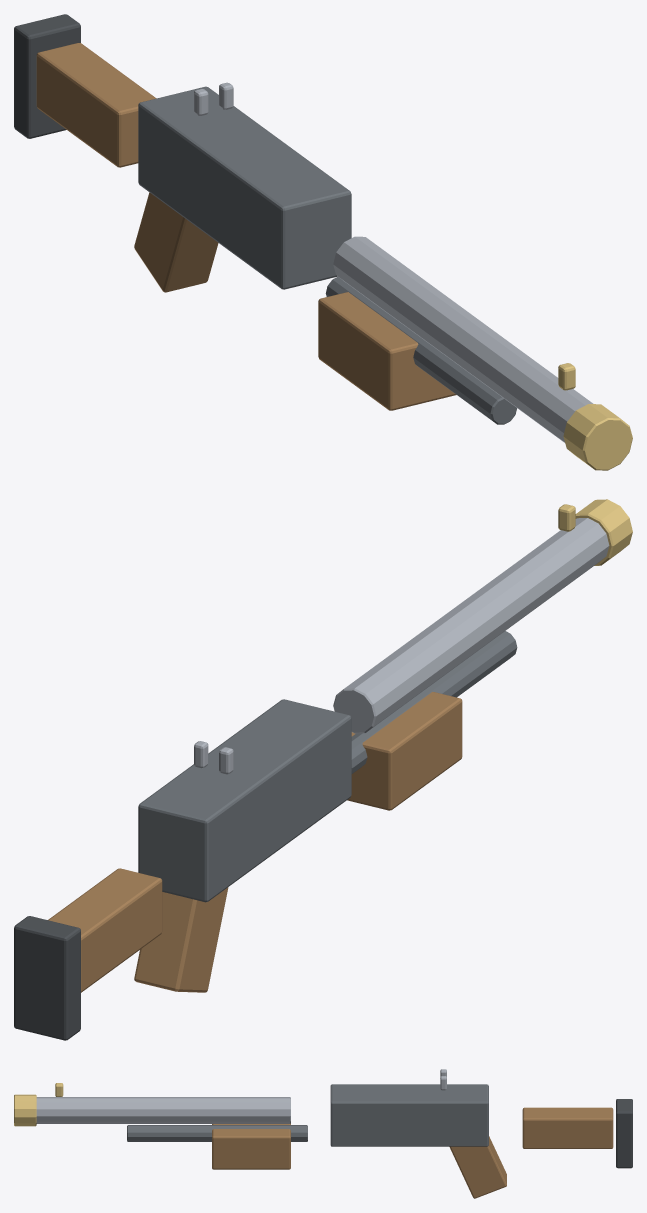
The model's file is slugshotgun.glb.
3 renders of one model, top to bottom at view 1: azimuth 30°, elevation 25°; view 2: azimuth 150°, elevation 25°; view 3: azimuth 270°, elevation 25°, orthographic. The views are drawn at different scales.
Parts seen in each view (by area): view 1: Receiver, Barrel, Stock, Pump, Grip, Butt, Tube, Muzzle; view 2: Receiver, Barrel, Pump, Stock, Butt, Grip, Tube, Muzzle; view 3: Receiver, Barrel, Stock, Pump, Grip, Tube, Butt, Muzzle.
Part boxes in pixels (x1=…): Receiver: x1=138, y1=86, x2=351, y2=289; Barrel: x1=333, y1=236, x2=593, y2=442; Stock: x1=36, y1=43, x2=156, y2=167; Pump: x1=318, y1=292, x2=456, y2=410; Grip: x1=134, y1=192, x2=218, y2=292; Butt: x1=14, y1=14, x2=80, y2=138; Tube: x1=325, y1=277, x2=516, y2=424; Muzzle: x1=563, y1=404, x2=632, y2=470; Receiver: x1=138, y1=699, x2=351, y2=902; Barrel: x1=333, y1=518, x2=609, y2=733; Pump: x1=347, y1=692, x2=462, y2=810; Stock: x1=48, y1=868, x2=162, y2=992; Butt: x1=14, y1=916, x2=80, y2=1040; Grip: x1=134, y1=887, x2=228, y2=992; Tube: x1=351, y1=631, x2=517, y2=773; Muzzle: x1=575, y1=499, x2=632, y2=565; Receiver: x1=330, y1=1084, x2=488, y2=1146; Barrel: x1=36, y1=1097, x2=290, y2=1123; Stock: x1=522, y1=1107, x2=613, y2=1148; Pump: x1=212, y1=1123, x2=290, y2=1169; Grip: x1=449, y1=1136, x2=506, y2=1198; Tube: x1=127, y1=1125, x2=307, y2=1141; Butt: x1=616, y1=1099, x2=632, y2=1168; Muzzle: x1=14, y1=1094, x2=36, y2=1126.
Size of the model in its own units: 0.082 by 0.2343 by 1.1.
